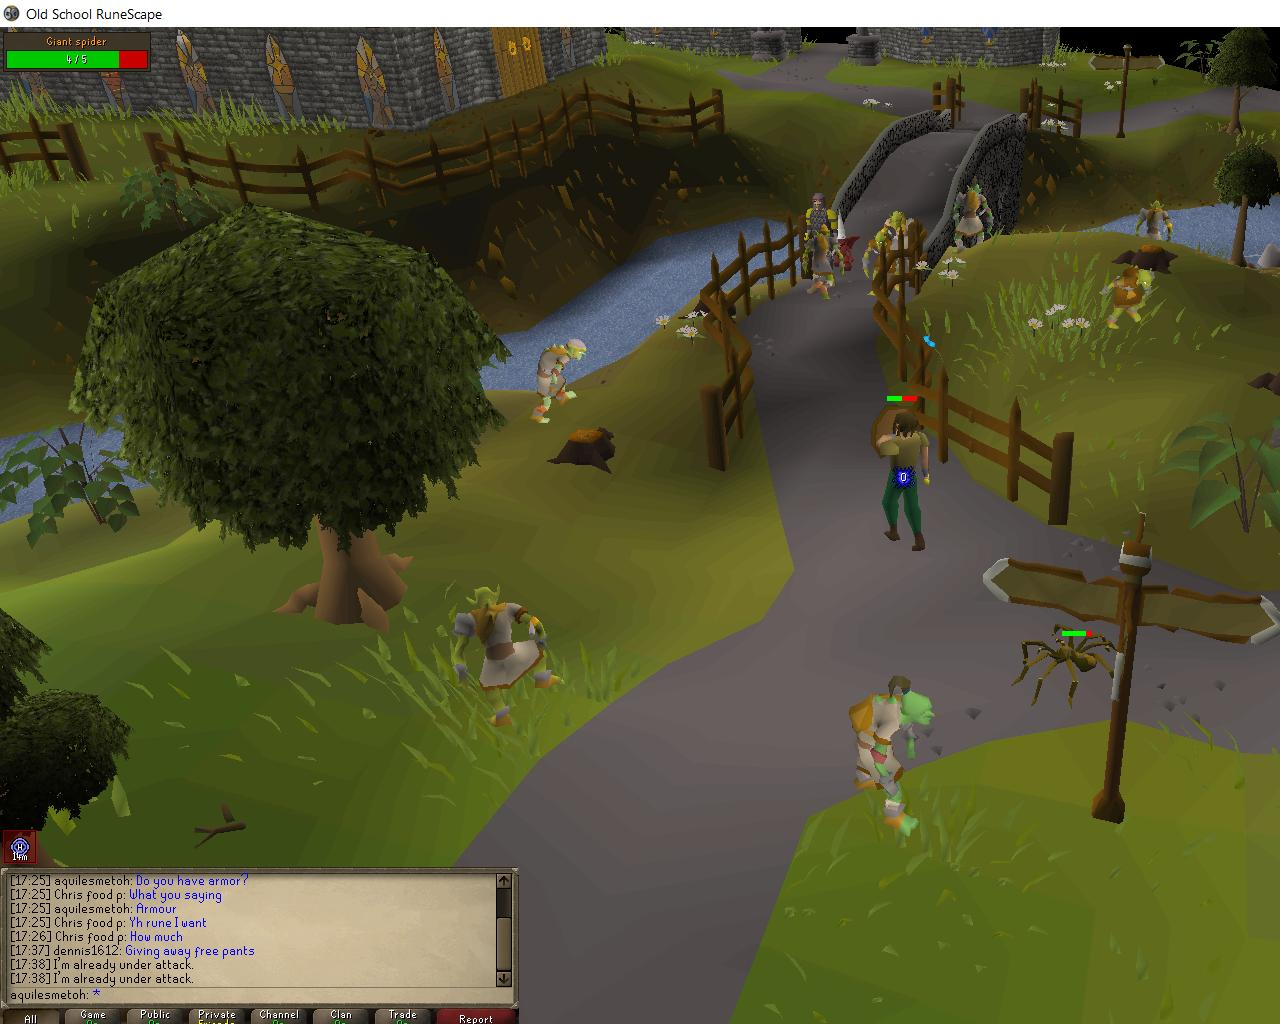Goblin: (444, 583, 575, 734), (845, 671, 940, 839), (527, 334, 584, 427), (1098, 262, 1151, 333), (950, 179, 1003, 249), (802, 222, 845, 302), (860, 230, 905, 297), (877, 210, 921, 272), (1136, 199, 1176, 245)
